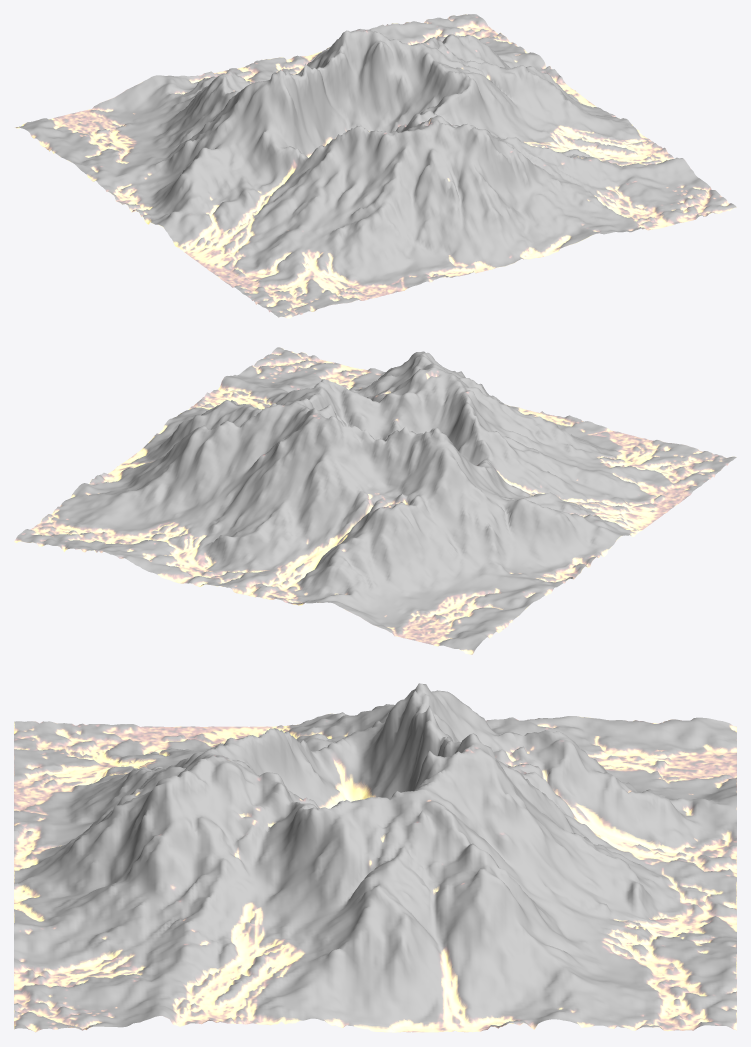
3 renders of one model, top to bottom at view 1: azimuth 30°, elevation 25°; view 2: azimuth 150°, elevation 25°; view 3: azimuth 270°, elevation 25°, orthographic. The views are drawn at different scales.
Visible parts, largest first — view 1: Volcano_001; view 2: Volcano_001; view 3: Volcano_001.
Part boxes in pixels (<box>): Volcano_001: <box>15,14,736,318</box>; Volcano_001: <box>14,347,736,654</box>; Volcano_001: <box>14,683,736,1032</box>.
Size of the model in its own units: 2 by 0.4632 by 2.
